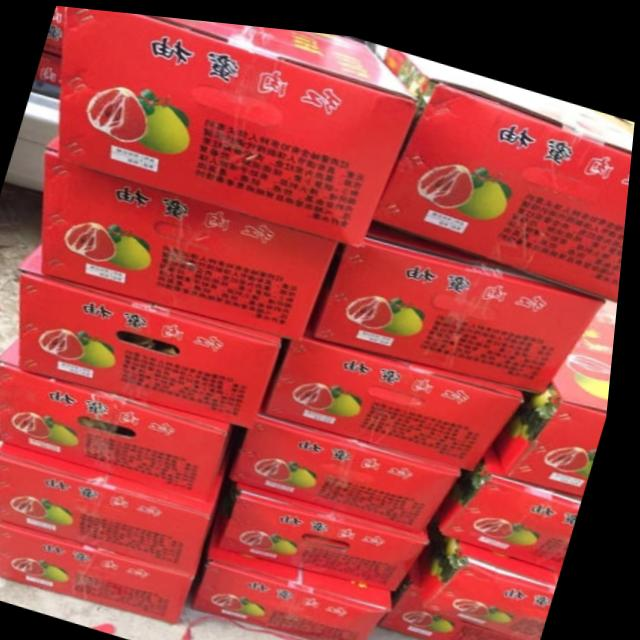box: (62, 5, 418, 239), (367, 36, 635, 289), (45, 130, 342, 333), (319, 210, 613, 381), (23, 242, 290, 423), (3, 335, 240, 500), (271, 328, 531, 461), (3, 441, 237, 568), (235, 407, 472, 523), (201, 521, 404, 640), (500, 292, 621, 486), (228, 478, 440, 581), (8, 520, 207, 619), (446, 441, 591, 562), (428, 526, 568, 630), (390, 560, 551, 640), (44, 5, 66, 56), (36, 48, 64, 86)
